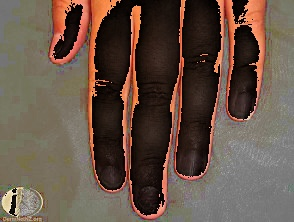Nail_psoriasis: (89, 143, 135, 188), (131, 175, 168, 219), (174, 151, 208, 182)
